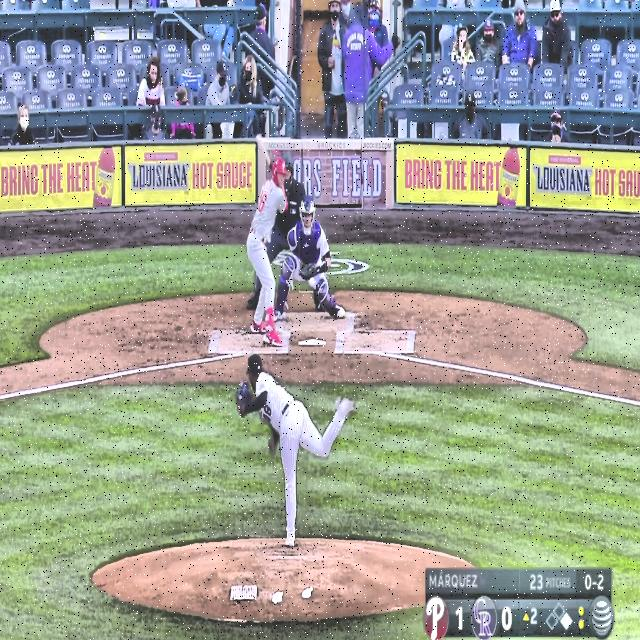baseball: (308, 276, 316, 288)
